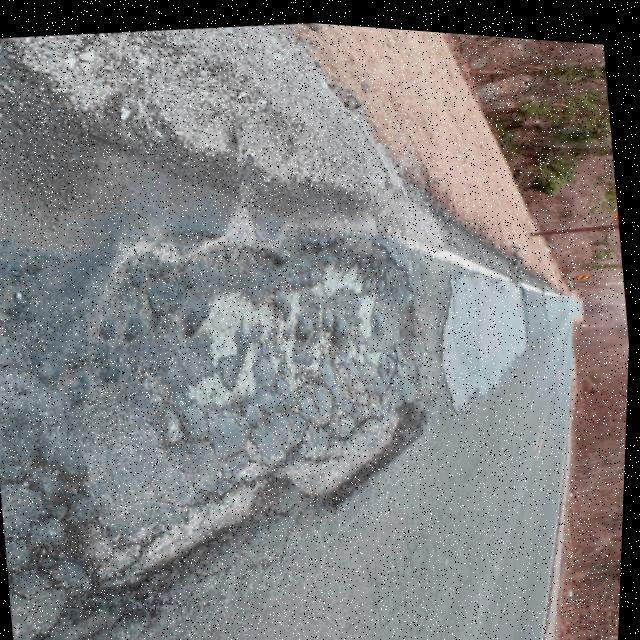pothole: (60, 466, 286, 618), (277, 378, 448, 526), (296, 242, 426, 401), (180, 277, 316, 422)
